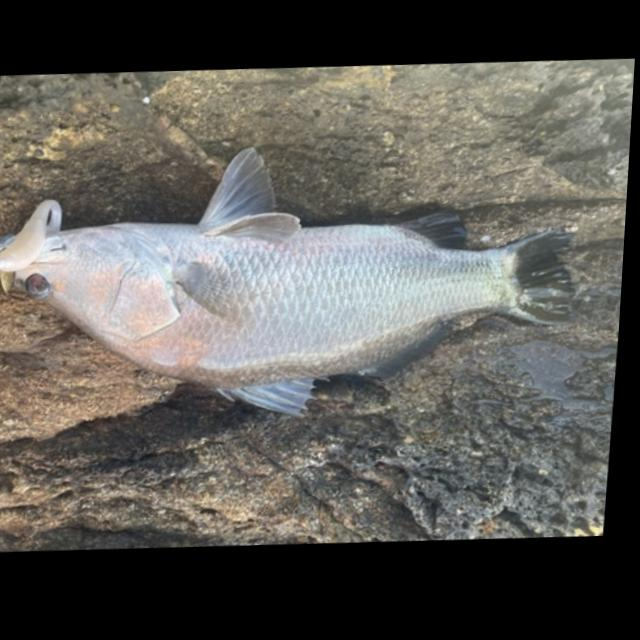Seabass: (0, 128, 588, 438)
